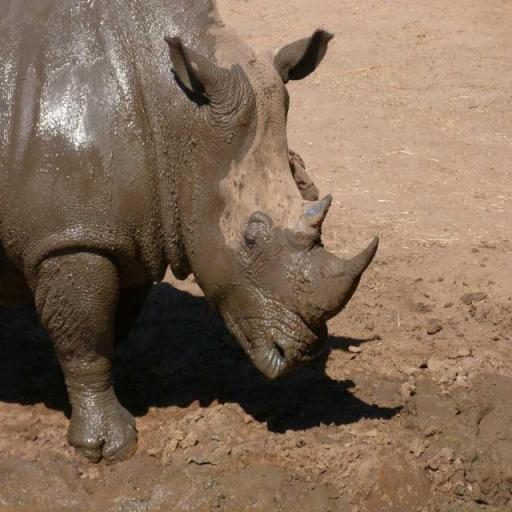Rhino: (0, 0, 379, 463)
